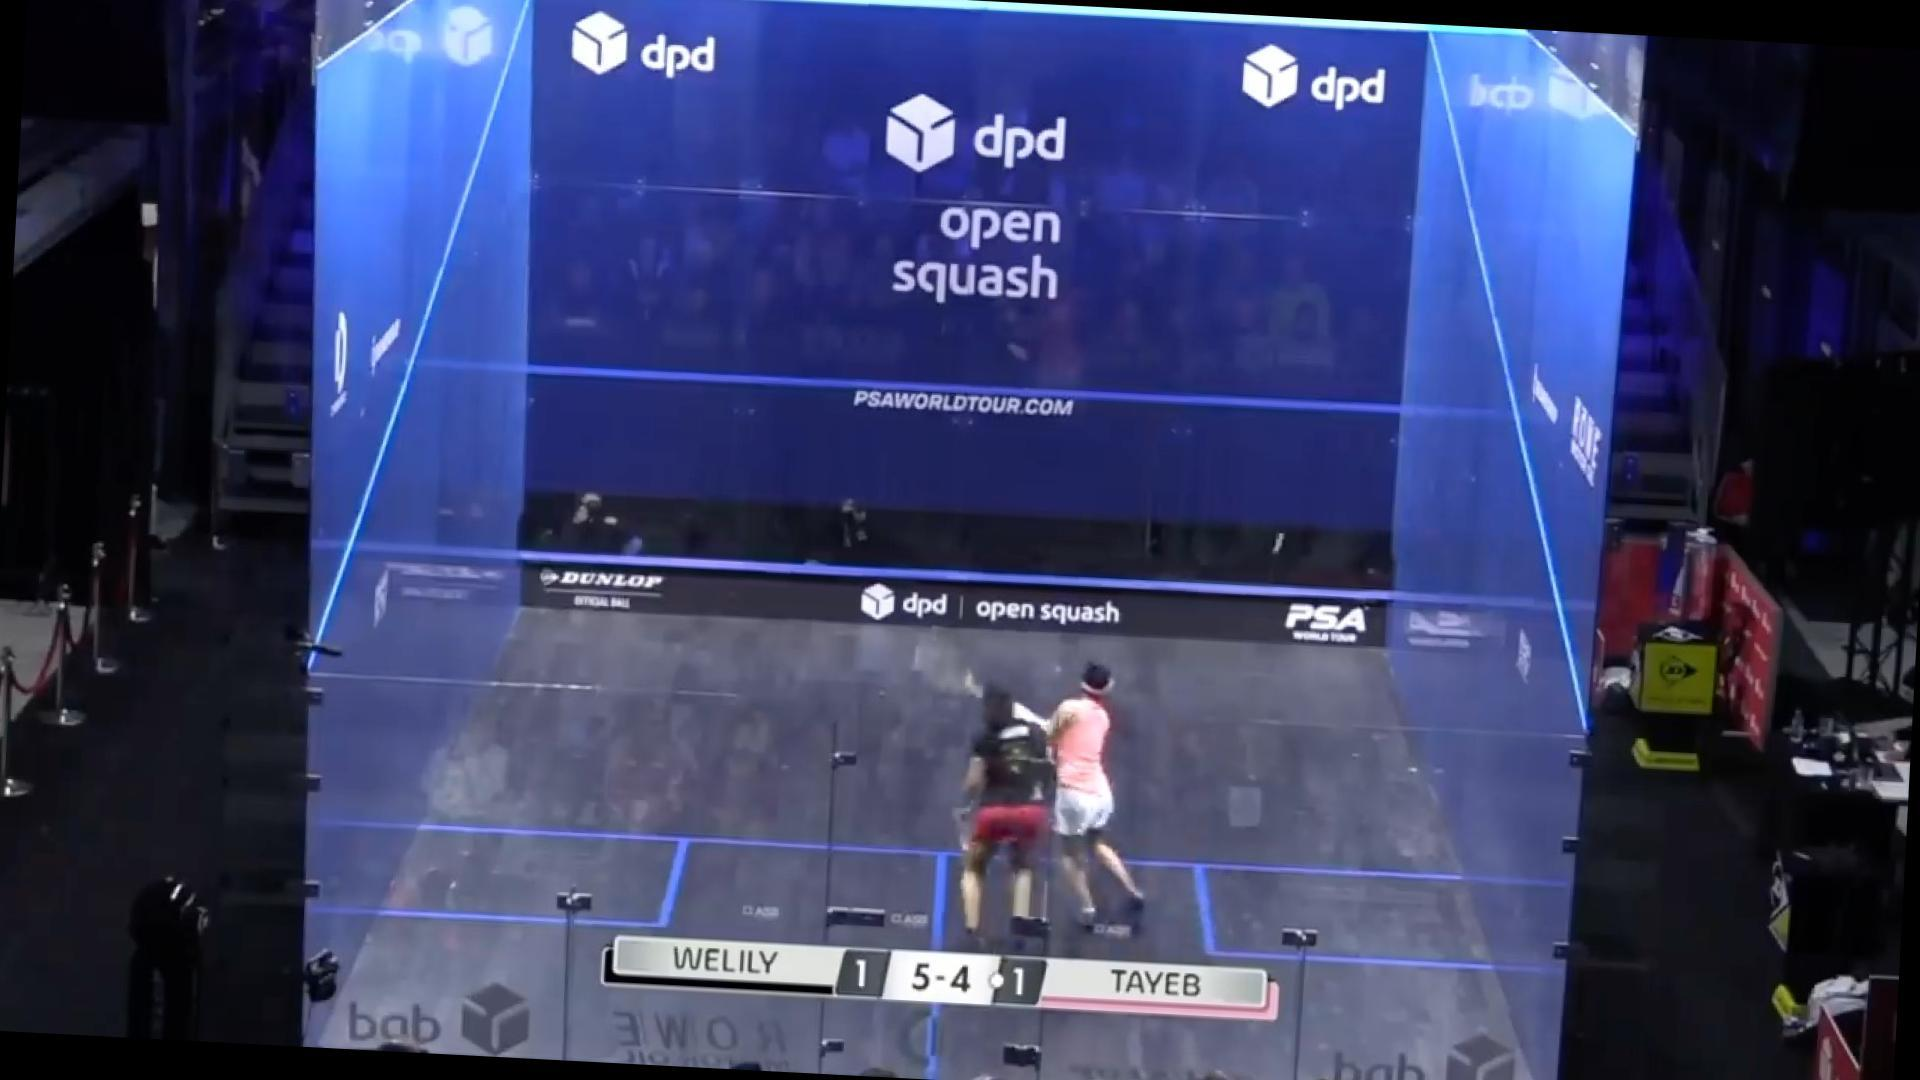Squash-Ball: (1254, 521, 1312, 566)
